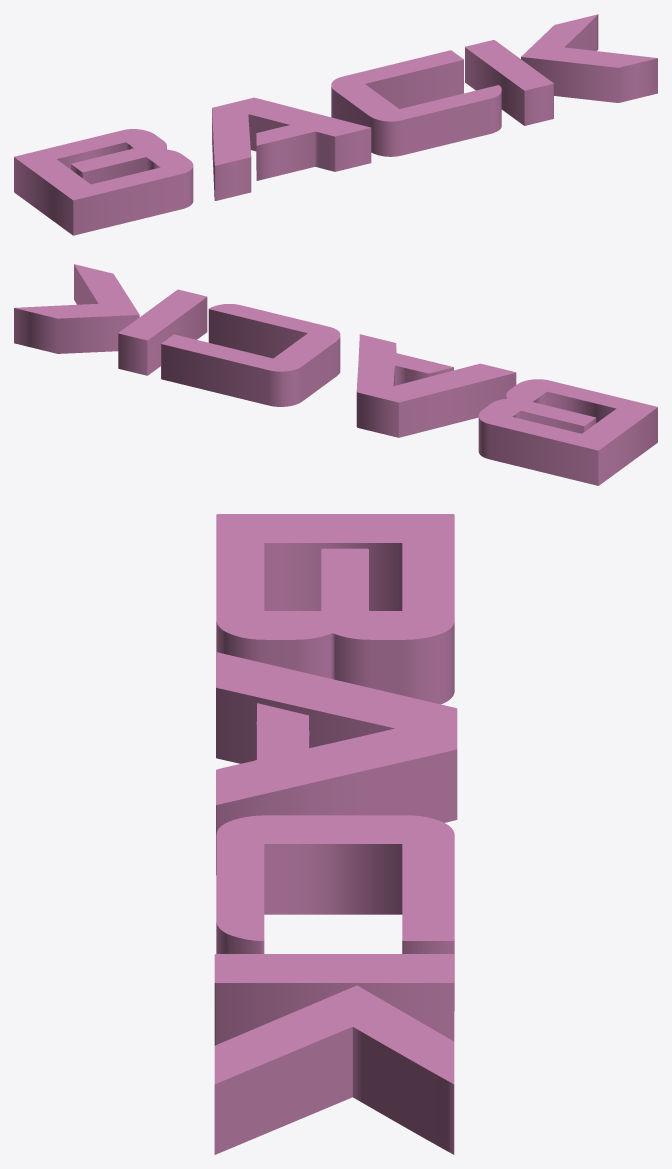
File: back.dae
The picture shows the model from 3 angles, top to bottom: view 1: azimuth 30°, elevation 25°; view 2: azimuth 150°, elevation 25°; view 3: azimuth 270°, elevation 25°; orthographic projection. The views are drawn at different scales.
Visible parts, largest first — view 1: back_master-copy_001; view 2: back_master-copy_001; view 3: back_master-copy_001.
Boxes of the visible parts, x1,y1,x2,y2 form: back_master-copy_001: [14, 14, 657, 235]; back_master-copy_001: [14, 264, 657, 485]; back_master-copy_001: [214, 514, 457, 1154].
Bounding box in the file's own units: 2.81 × 0.5046 × 0.162.
